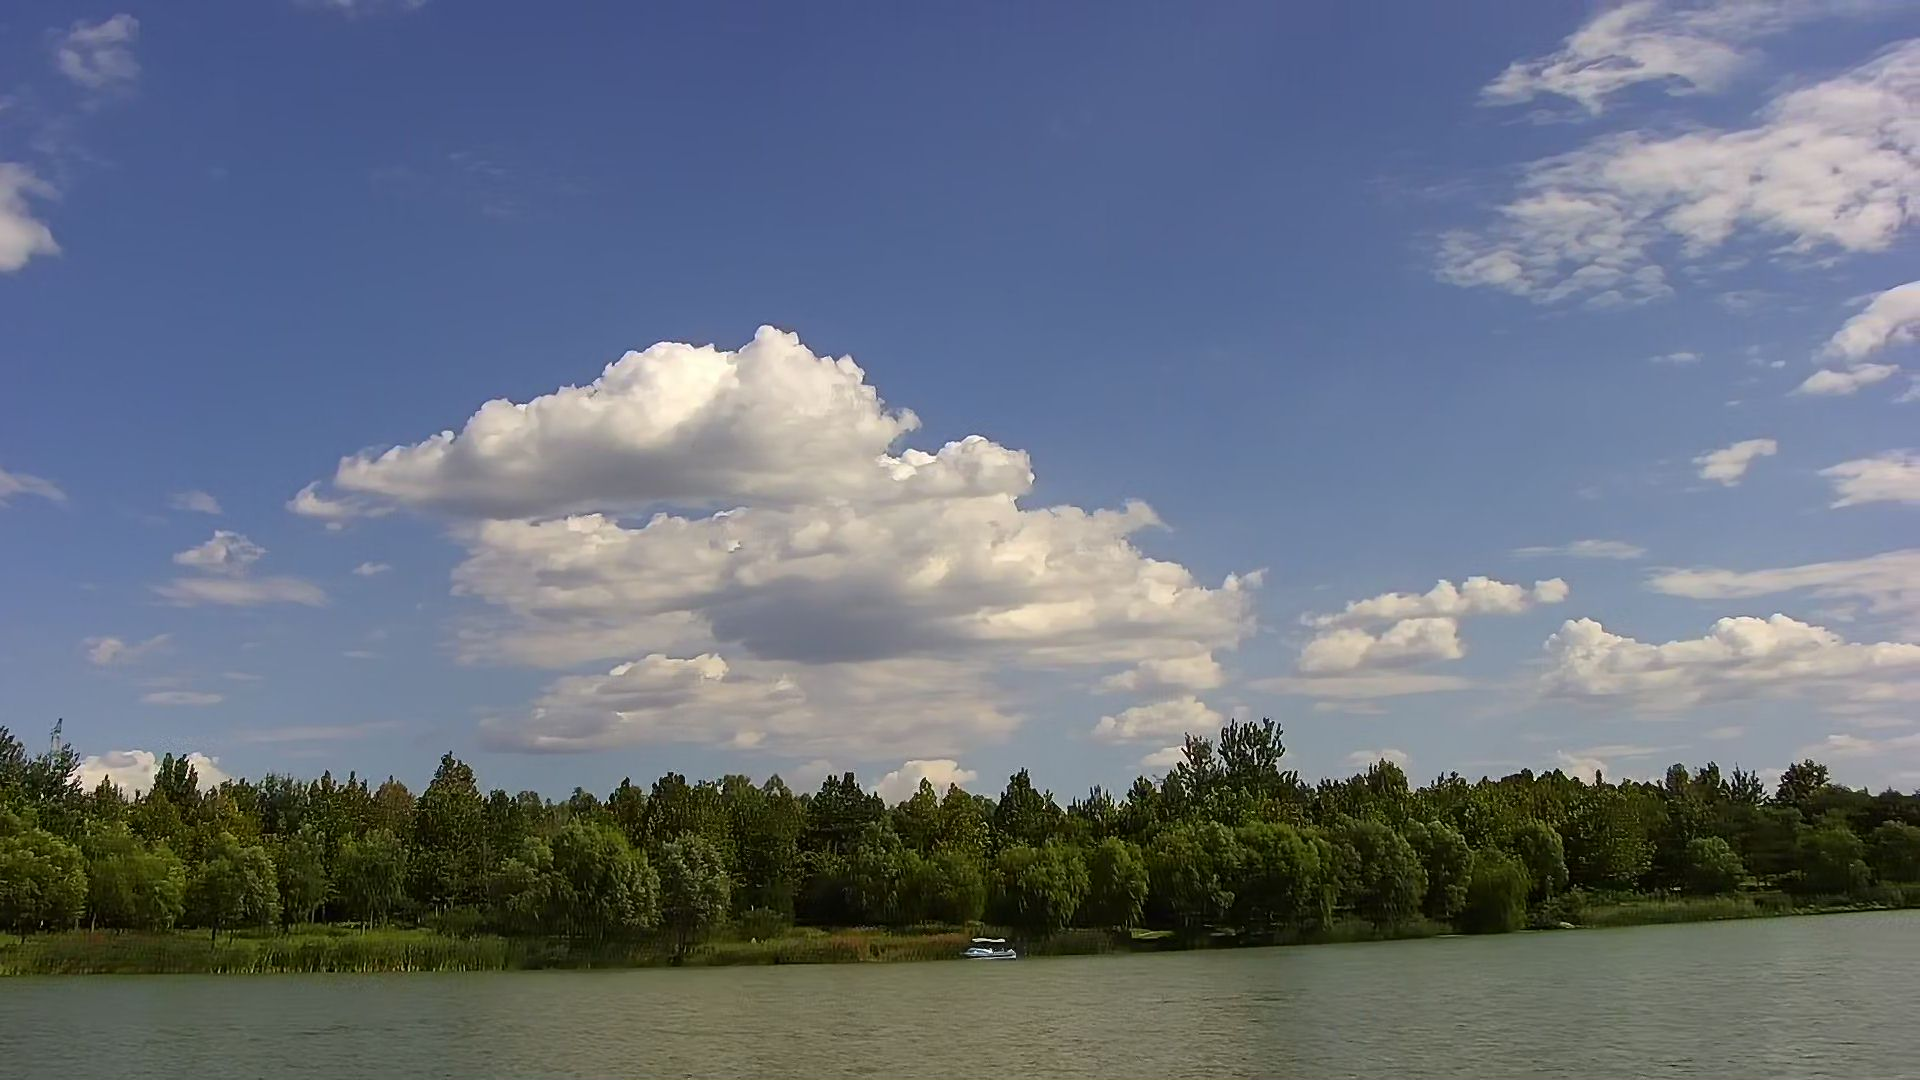boat: (959, 935, 1021, 965)
